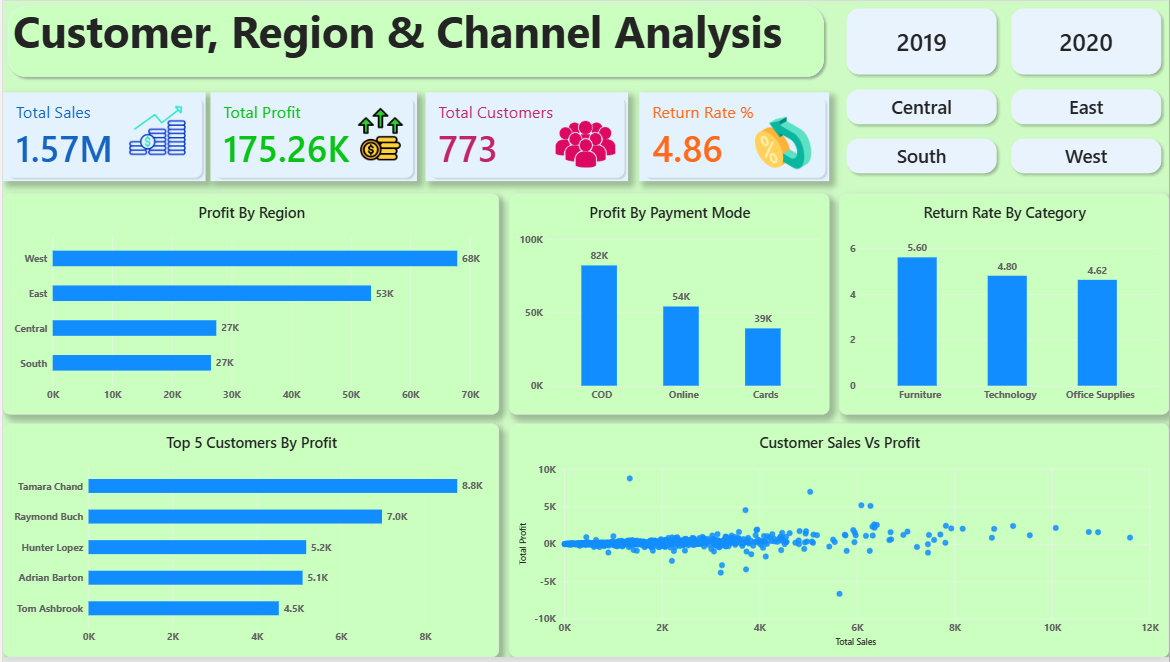

What the dashboard file says about the page in this screenshot:
{"tool":"powerbi","page":{"name":"Customer, Region & Channel Analysis","canvas":[1920,1080],"ordinal":2},"visuals":[{"type":"shape","box":[0,0,1360.6,133.8],"z":0},{"type":"textbox","box":[16.5,0,1286.5,107],"z":1},{"type":"advancedSlicerVisual","fields":{"Values":["DimDate.Year"]},"box":[1377,0,543.4,133.8],"z":2},{"type":"cardVisual","fields":{"Data":["SuperStore_Sales_Dataset_Cleaned.Total Sales"]},"box":[0,150.3,333.4,146.1],"z":3},{"type":"cardVisual","fields":{"Data":["SuperStore_Sales_Dataset_Cleaned.Total Profit"]},"box":[341.7,150.3,339.6,146.1],"z":4},{"type":"cardVisual","fields":{"Data":["SuperStore_Sales_Dataset_Cleaned.Total Customers"]},"box":[695.7,150.3,333.4,146.1],"z":5},{"type":"cardVisual","fields":{"Data":["SuperStore_Sales_Dataset_Cleaned.Return Rate %"]},"box":[1047.7,150.3,312.9,146.1],"z":6},{"type":"image","box":[205.8,158.5,96.7,109.1],"z":7},{"type":"image","box":[578.4,158.5,86.4,121.4],"z":8},{"type":"advancedSlicerVisual","fields":{"Values":["SuperStore_Sales_Dataset_Cleaned.Region"]},"box":[1377,133.8,543.4,162.6],"z":9},{"type":"clusteredBarChart","title":"Profit By Region","fields":{"Category":["SuperStore_Sales_Dataset_Cleaned.Region"],"Y":["SuperStore_Sales_Dataset_Cleaned.Total Profit"]},"box":[0,317,817.2,364.3],"z":10},{"type":"clusteredColumnChart","title":"Profit By Payment Mode","fields":{"Category":["SuperStore_Sales_Dataset_Cleaned.Payment Mode"],"Y":["SuperStore_Sales_Dataset_Cleaned.Total Profit"]},"box":[833.6,317,526.9,364.3],"z":11},{"type":"clusteredColumnChart","title":"Return Rate By Category","fields":{"Category":["SuperStore_Sales_Dataset_Cleaned.Category"],"Y":["SuperStore_Sales_Dataset_Cleaned.Return Rate %"]},"box":[1377,317,543.4,364.3],"z":12},{"type":"clusteredBarChart","title":"Top 5 Customers By Profit","fields":{"Y":["SuperStore_Sales_Dataset_Cleaned.Total Profit"],"Category":["SuperStore_Sales_Dataset_Cleaned.Customer Name"]},"box":[0,695.7,817.2,384.9],"z":13},{"type":"scatterChart","title":"Customer Sales Vs Profit","fields":{"X":["SuperStore_Sales_Dataset_Cleaned.Total Sales"],"Y":["SuperStore_Sales_Dataset_Cleaned.Total Profit"],"Category":["SuperStore_Sales_Dataset_Cleaned.Customer Name"]},"box":[833.6,695.7,1086.8,384.9],"z":14},{"type":"image","box":[909.8,175,98.8,121.4],"z":15},{"type":"image","box":[1235,187.3,98.8,92.6],"z":16}]}

Visuals, with their boxes in screenshot pixels (x1, y1, x2, y2), scaled from the page's 1920x1080 canvas onto the 1170x662 screenshot:
shape: Rect(0, 0, 829, 82)
textbox: Rect(10, 0, 794, 66)
advancedSlicerVisual - DimDate.Year: Rect(839, 0, 1169, 82)
cardVisual - SuperStore_Sales_Dataset_Cleaned.Total Sales: Rect(0, 92, 203, 182)
cardVisual - SuperStore_Sales_Dataset_Cleaned.Total Profit: Rect(208, 92, 415, 182)
cardVisual - SuperStore_Sales_Dataset_Cleaned.Total Customers: Rect(424, 92, 627, 182)
cardVisual - SuperStore_Sales_Dataset_Cleaned.Return Rate %: Rect(638, 92, 829, 182)
image: Rect(125, 97, 184, 164)
image: Rect(352, 97, 405, 172)
advancedSlicerVisual - SuperStore_Sales_Dataset_Cleaned.Region: Rect(839, 82, 1169, 182)
"Profit By Region" clusteredBarChart: Rect(0, 194, 498, 418)
"Profit By Payment Mode" clusteredColumnChart: Rect(508, 194, 829, 418)
"Return Rate By Category" clusteredColumnChart: Rect(839, 194, 1169, 418)
"Top 5 Customers By Profit" clusteredBarChart: Rect(0, 426, 498, 661)
"Customer Sales Vs Profit" scatterChart: Rect(508, 426, 1169, 661)
image: Rect(554, 107, 615, 182)
image: Rect(753, 115, 813, 172)
